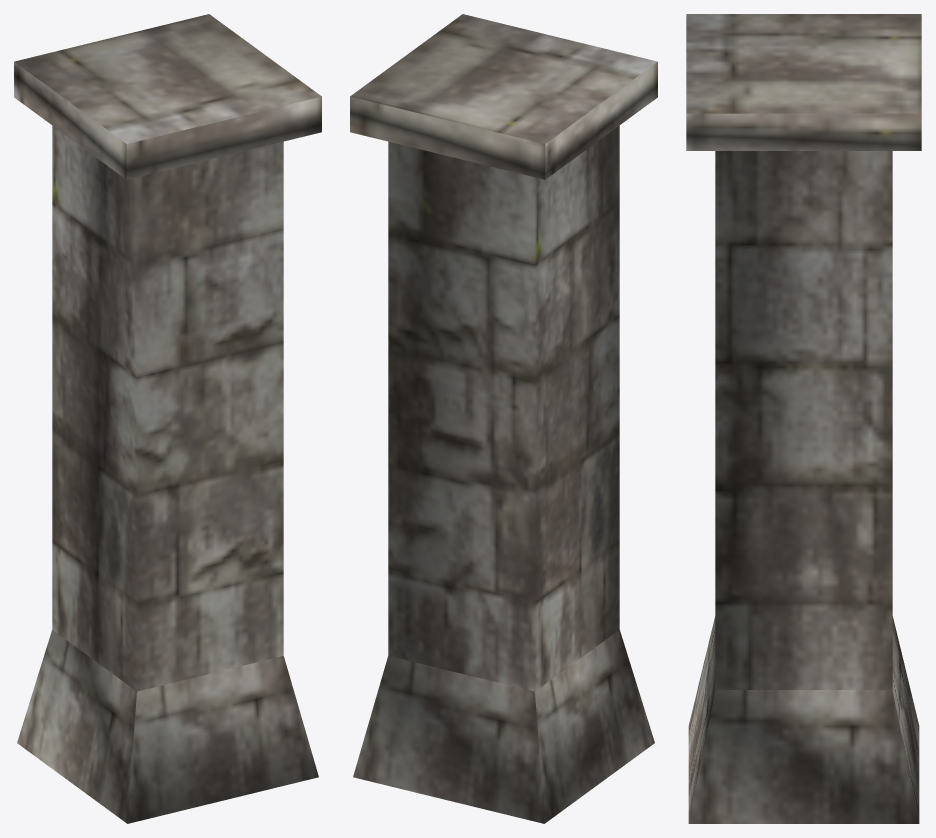
File: pillar_base.glb
3 renders of one model, left to right at view 1: azimuth 30°, elevation 25°; view 2: azimuth 150°, elevation 25°; view 3: azimuth 270°, elevation 25°, orthographic. The views are drawn at different scales.
Parts seen in each view (by area): view 1: pillar_base; view 2: pillar_base; view 3: pillar_base.
Part boxes in pixels (x1=…): pillar_base: x1=14, y1=14, x2=321, y2=823; pillar_base: x1=350, y1=14, x2=657, y2=823; pillar_base: x1=686, y1=14, x2=921, y2=823.
Bounding box in the file's own units: 1.2 × 4 × 1.2.
Materials: 1 (1 with a texture image).
